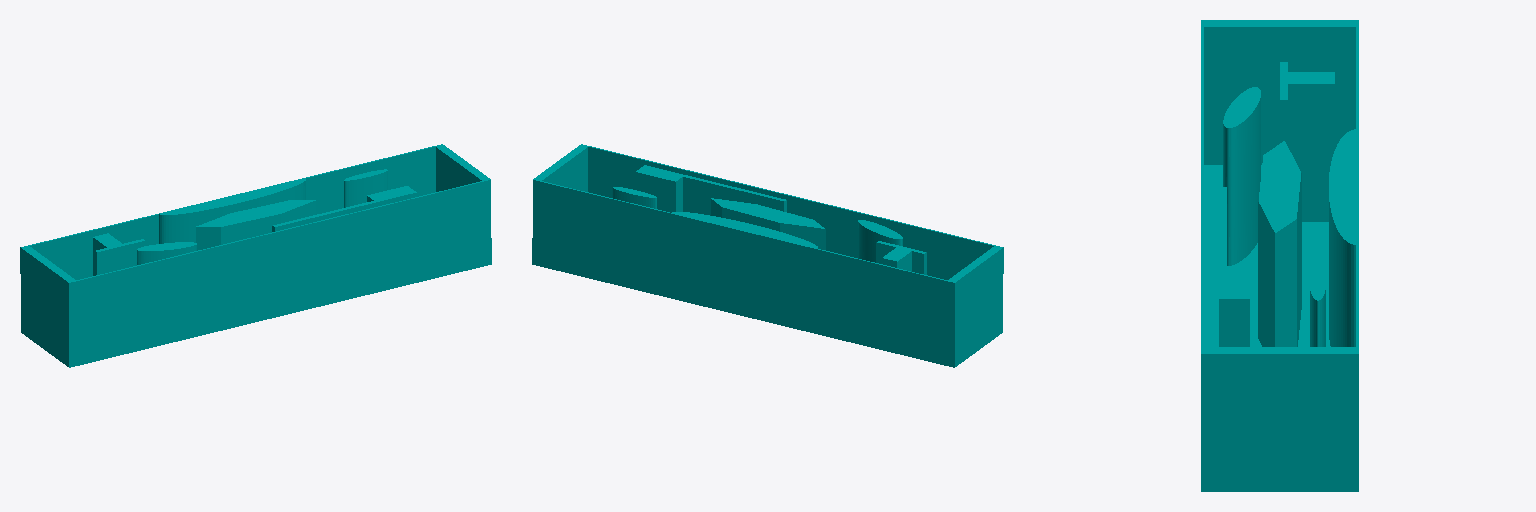
robot.urdf — maze_and_agent:
<?xml version="1.0" ?>
<robot name="maze_and_agent">
  <link name="maze">
    <visual>
      <geometry>
        <mesh filename="package:/[local-path]/pybullet_ws/model/maze.stl" scale = ".005 .001 .005"/>
      </geometry>
      <origin rpy="0 1.57 0" xyz="-2 -3 3"/>
      <material name="LightGrey">
        <color rgba="0. 0.7 0.7 1.0"/>
      </material>
    </visual>
    <collision>
      <geometry>
        <mesh filename="package:/[local-path]/pybullet_ws/model/maze.stl" scale = ".005 .001 .005"/>
      </geometry>
      <origin rpy="0 1.57 0" xyz="-2 -3 3"/>
    </collision>
  </link>

</robot>

--- Render facts (derived) ---
Views: 3 orthographic renders of the robot side by side, from view 1: azimuth 30°, elevation 25°; view 2: azimuth 150°, elevation 25°; view 3: azimuth 270°, elevation 25°.
Robot: maze_and_agent — 1 links, 0 joints (none); root link maze; default pose: every joint at zero.
Visible links, largest first — view 1: maze; view 2: maze; view 3: maze.
Boxes of the visible links, x1,y1,x2,y2 form: maze: (20,144,491,367); maze: (532,144,1003,367); maze: (1201,20,1358,491).
Bounding box of the posed robot: 2.6 × 0.52 × 0.5021 m (x, y, z).
Meshes: 1 distinct files referenced, 1 mesh visuals loaded (1 binary STL).
